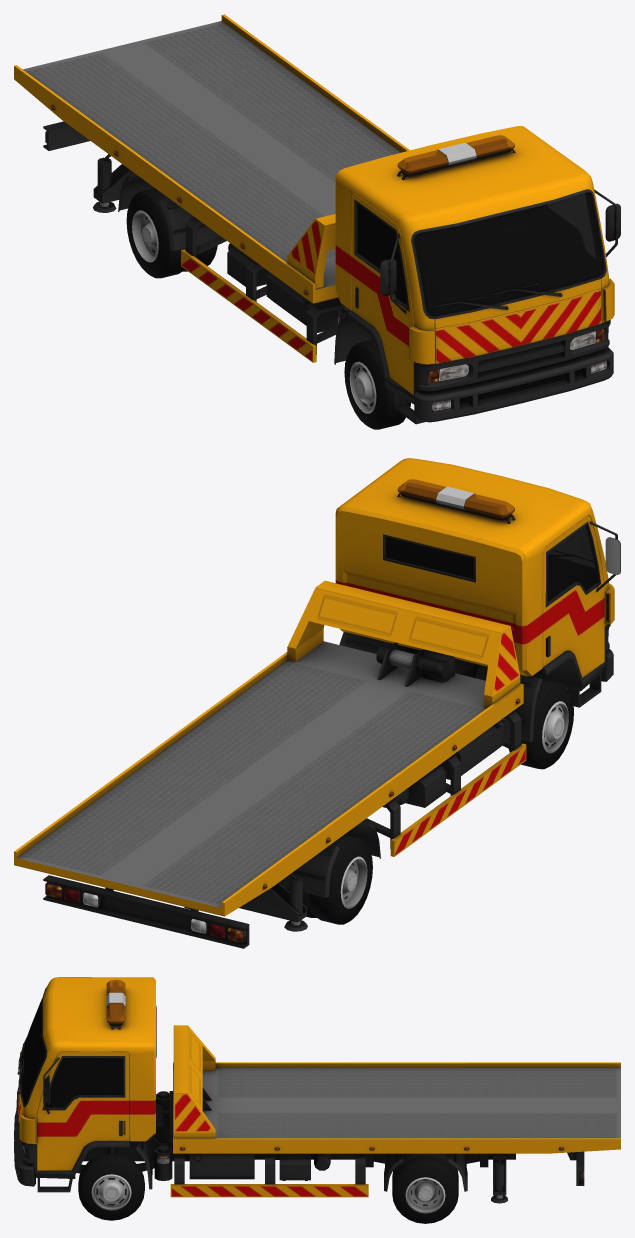
The model's file is towtruck.glb.
3 views of the same model, one above another, from view 1: azimuth 30°, elevation 25°; view 2: azimuth 150°, elevation 25°; view 3: azimuth 270°, elevation 25° (orthographic). The views are drawn at different scales.
Visible parts, largest first — view 1: towtruck_towtruck_0, towtruck_towtruck_glass_0, towtruck_optics_tex_0, towtruck_towtruck_glass_0_1; view 2: towtruck_towtruck_0, towtruck_towtruck_glass_0, towtruck_optics_tex_0, towtruck_towtruck_glass_0_1; view 3: towtruck_towtruck_0, towtruck_towtruck_glass_0, towtruck_towtruck_glass_0_1.
Boxes of the visible parts, box(x1,y1,x2,y2) form: towtruck_towtruck_0: box(14, 14, 620, 429); towtruck_towtruck_glass_0: box(357, 192, 603, 316); towtruck_optics_tex_0: box(50, 105, 606, 410); towtruck_towtruck_glass_0_1: box(397, 135, 514, 174); towtruck_towtruck_0: box(14, 458, 620, 948); towtruck_towtruck_glass_0: box(386, 526, 597, 601); towtruck_optics_tex_0: box(46, 486, 520, 942); towtruck_towtruck_glass_0_1: box(397, 479, 514, 518); towtruck_towtruck_0: box(14, 977, 620, 1223); towtruck_towtruck_glass_0: box(21, 1000, 122, 1107); towtruck_towtruck_glass_0_1: box(106, 979, 125, 1024).
Size of the model in its own units: 2.12 by 2.14 by 6.2.
4 materials, 4 textured.
